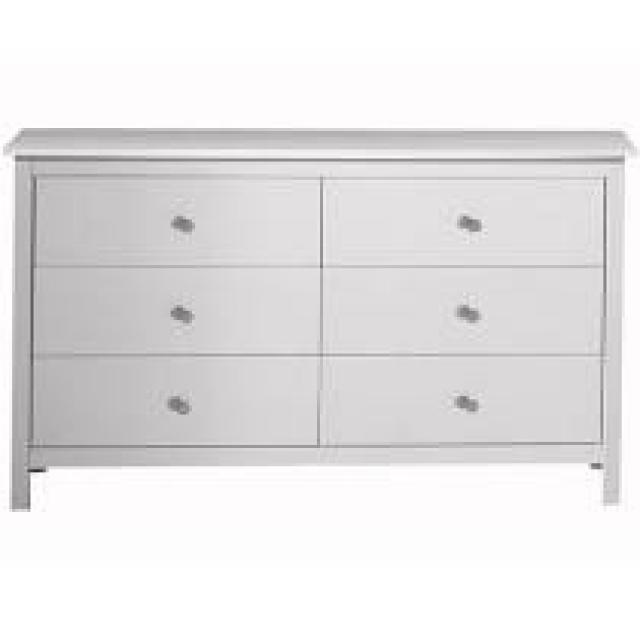mobile-phone: (4, 124, 640, 511)
